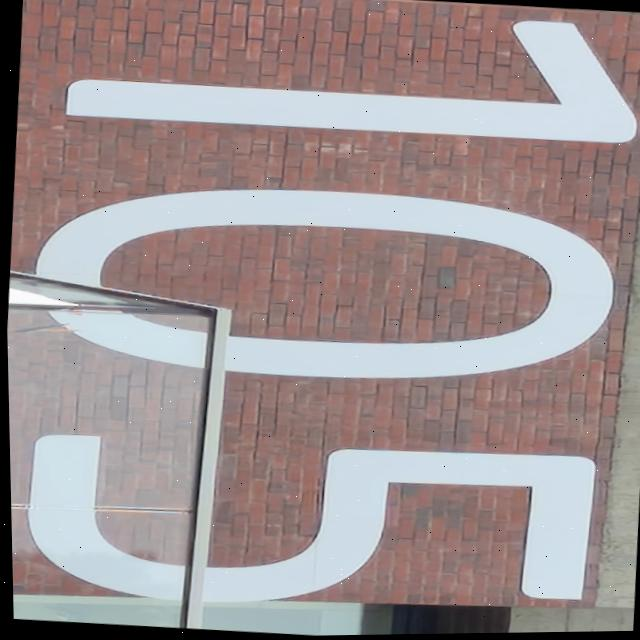character: (15, 162, 631, 407), (9, 411, 607, 638), (52, 0, 640, 162)
